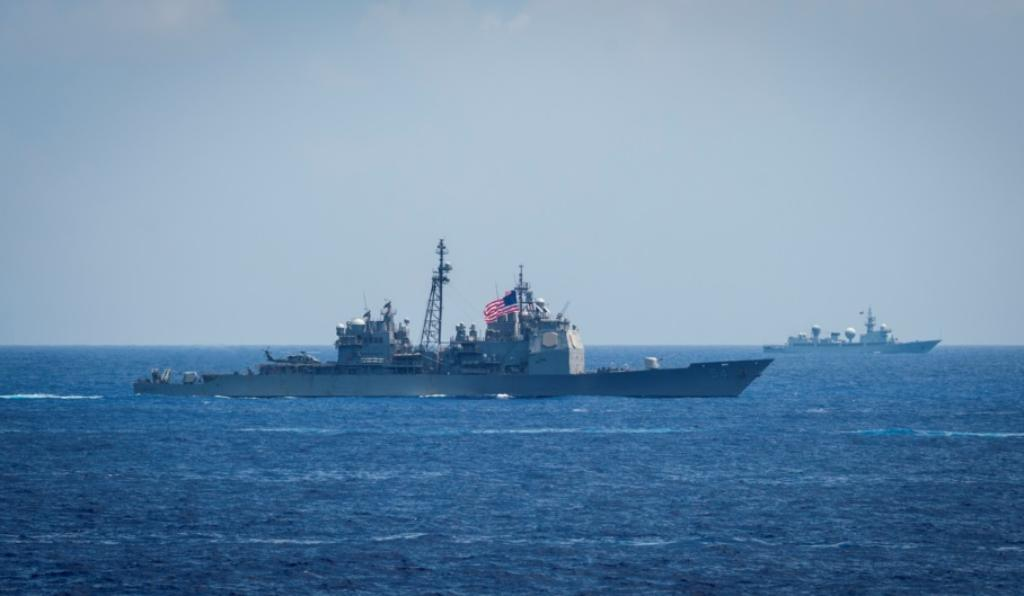Warship: (131, 238, 775, 404), (762, 302, 948, 356)
